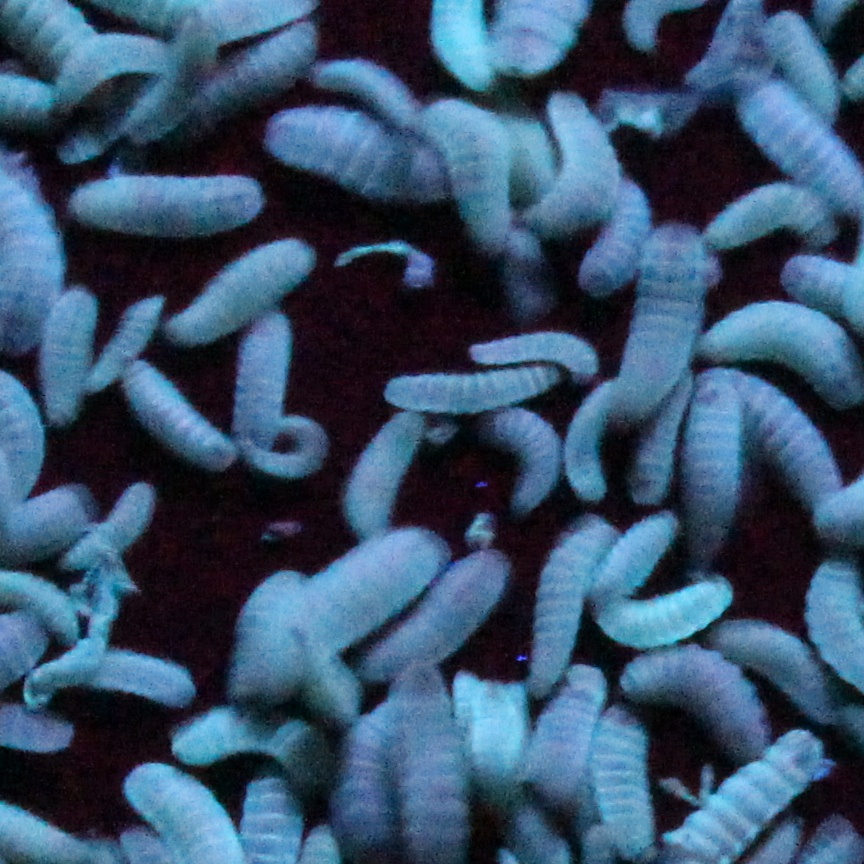larve: (243, 532, 453, 687), (595, 223, 718, 421), (365, 553, 512, 677), (162, 234, 317, 346), (529, 513, 622, 698), (626, 646, 771, 753), (424, 98, 520, 248), (72, 173, 267, 241), (526, 89, 619, 230), (127, 363, 234, 470), (528, 668, 605, 793), (317, 54, 426, 132), (239, 310, 296, 458), (64, 30, 176, 103), (38, 289, 98, 425), (353, 413, 422, 530), (581, 177, 650, 292), (384, 365, 555, 411), (591, 513, 679, 601), (67, 482, 152, 573), (707, 189, 834, 244), (491, 411, 558, 515), (252, 415, 326, 484), (469, 339, 602, 377)
